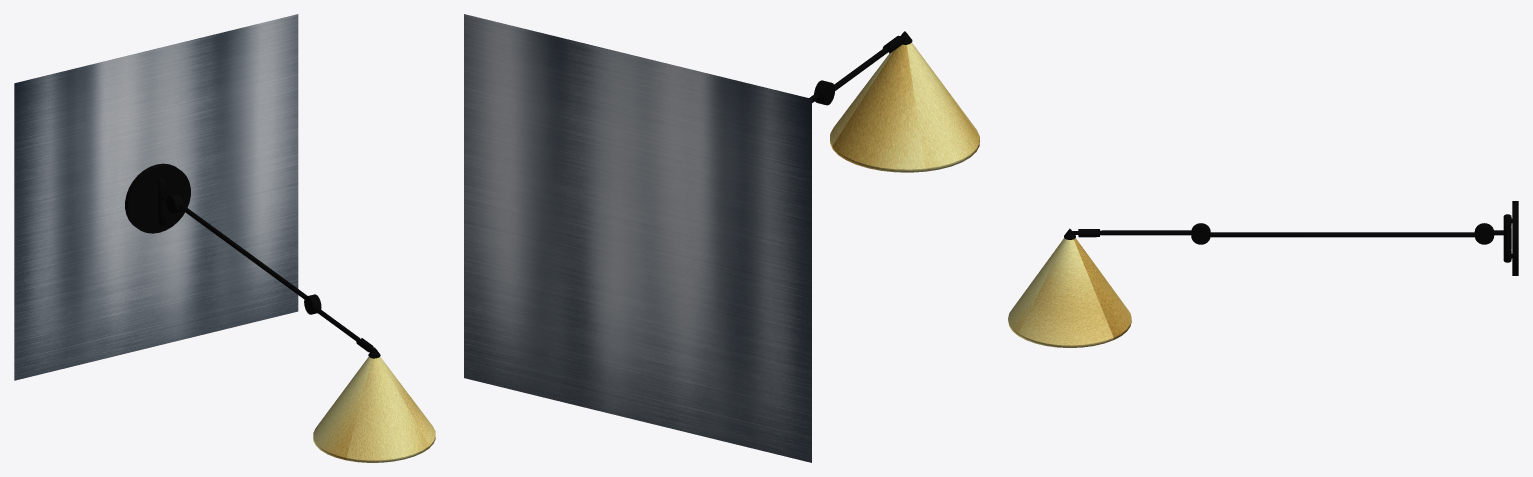
Rendered from Adourado 2.glb.
The picture shows the model from 3 angles, left to right: view 1: azimuth 30°, elevation 25°; view 2: azimuth 150°, elevation 25°; view 3: azimuth 270°, elevation 25°; orthographic projection. The views are drawn at different scales.
Parts seen in each view (by area): view 1: Plano, Abajur, Support, LongArm, ShortArm; view 2: Plano, Abajur, ShortArm; view 3: Abajur, LongArm, ShortArm, Support.
Boxes of the visible parts, box(x1,y1,x2,y2) form: Plano: box(14, 14, 298, 380); Abajur: box(313, 356, 435, 462); Support: box(125, 163, 190, 233); LongArm: box(173, 193, 321, 313); ShortArm: box(304, 295, 360, 340); Plano: box(464, 14, 811, 462); Abajur: box(830, 42, 979, 172); ShortArm: box(819, 46, 889, 105); Abajur: box(1008, 238, 1131, 347); LongArm: box(1191, 225, 1494, 244); ShortArm: box(1099, 223, 1210, 235); Support: box(1512, 201, 1518, 275).
Size of what is drawn, in the model's own units: 5 by 5 by 7.56.
Materials: 6 (2 with a texture image).
